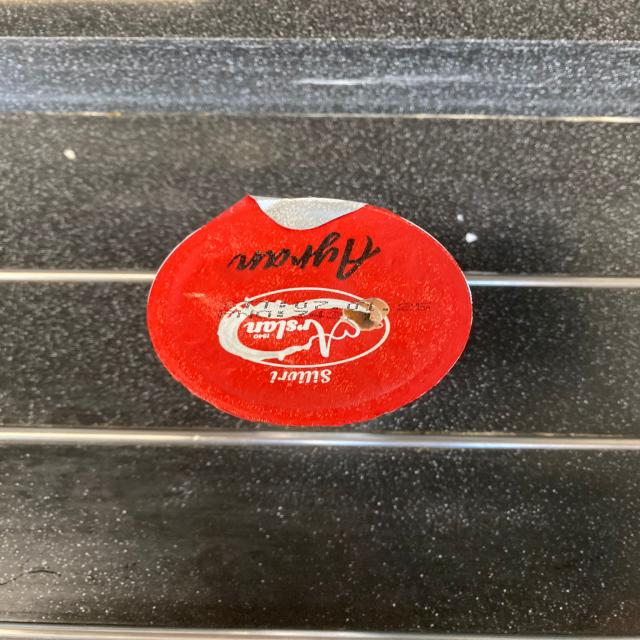yan_yemek: (145, 194, 474, 428)
